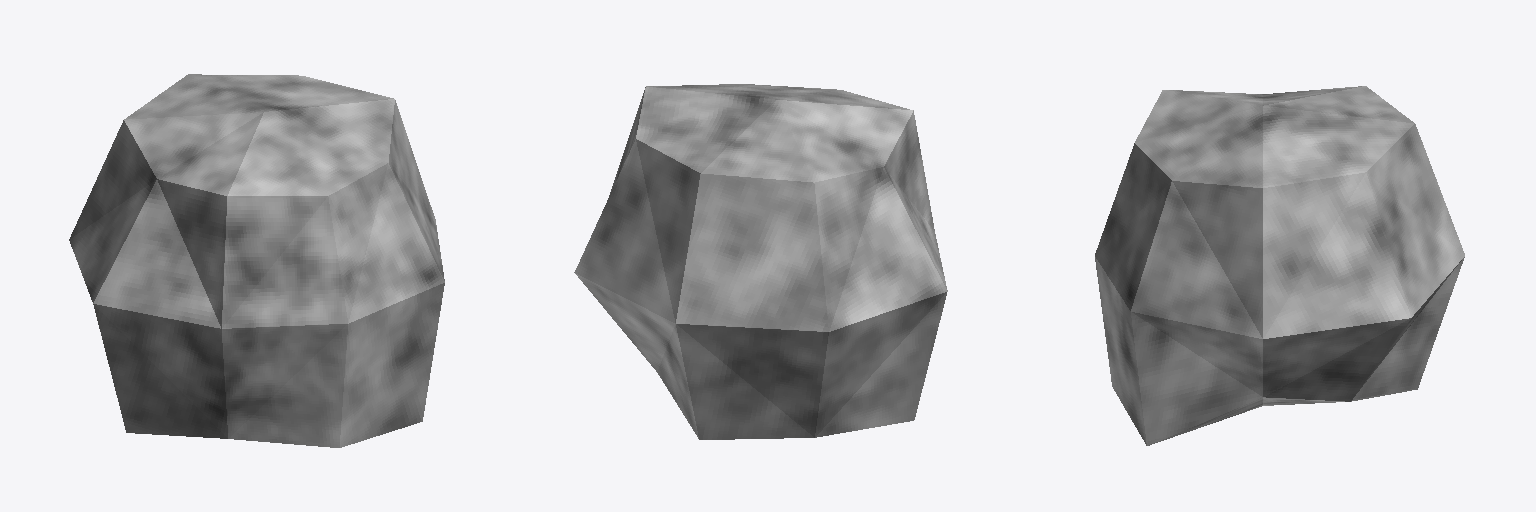
The picture shows the model from 3 angles: view 1: azimuth 30°, elevation 25°; view 2: azimuth 150°, elevation 25°; view 3: azimuth 270°, elevation 25°; orthographic projection.
Visible parts, largest first — view 1: asteroid_01.005_asteroid.001; view 2: asteroid_01.005_asteroid.001; view 3: asteroid_01.005_asteroid.001.
Boxes of the visible parts, x1=… form: asteroid_01.005_asteroid.001: x1=69, y1=74, x2=444, y2=447; asteroid_01.005_asteroid.001: x1=574, y1=84, x2=947, y2=439; asteroid_01.005_asteroid.001: x1=1095, y1=86, x2=1464, y2=445.
Bounding box in the file's own units: 3.88 × 3.25 × 3.64.
Materials: 1 (1 with a texture image).